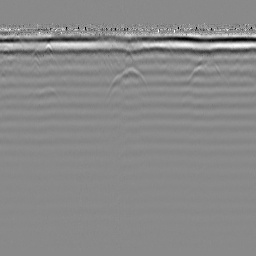cavity: (105, 64, 150, 102)
